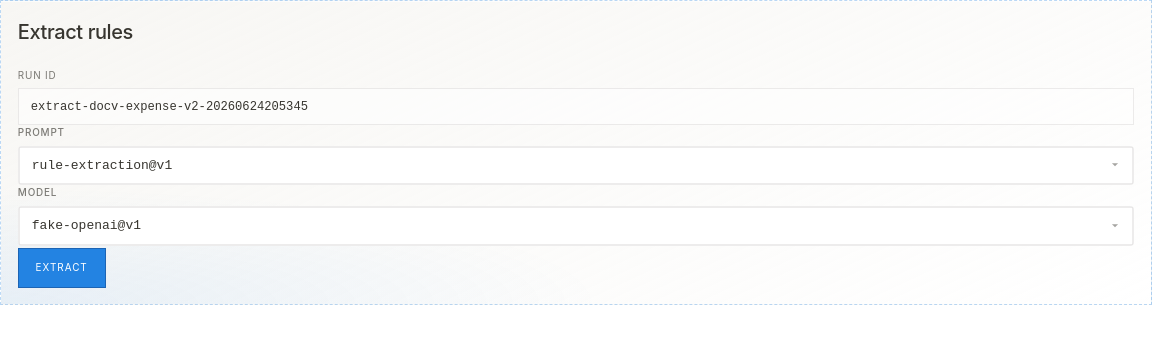
Test case: TriggerExtractionRun › commissions an extraction run and reports success
The image size is (1152, 358).
expect the dropdown labelled "Prompt" is shown: met, box [19,146,1133,184]
Replace the text in the field labelled "Run id" with "extract-docv-expense-v2-test" at (576, 107), box [18,88,1134,125]
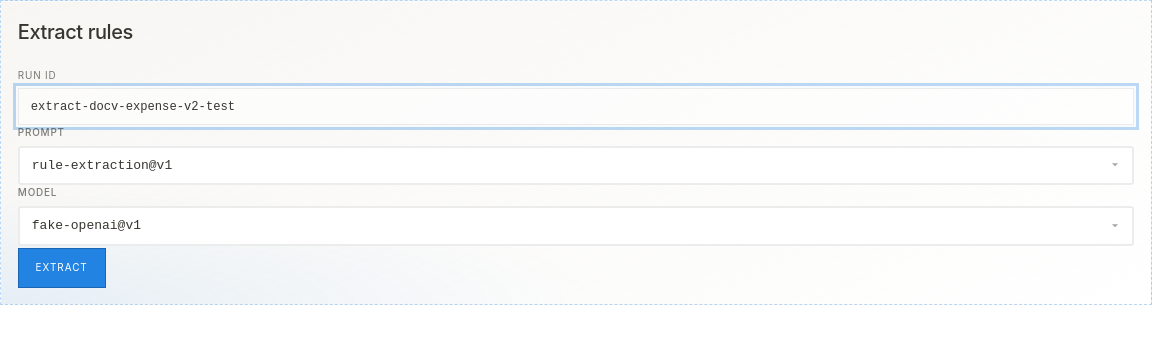
Click the button "Extract" at (62, 268), box [18,248,106,288]
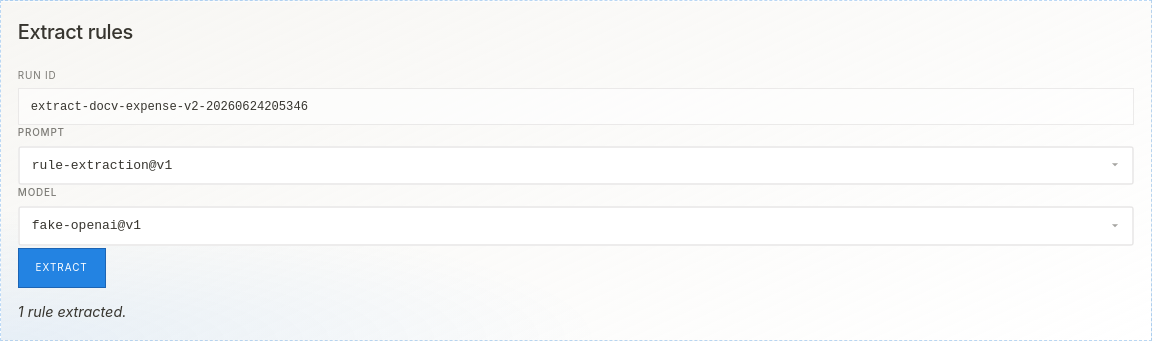
expect the text "1 rule extracted." is shown: met, box [18,303,126,320]
